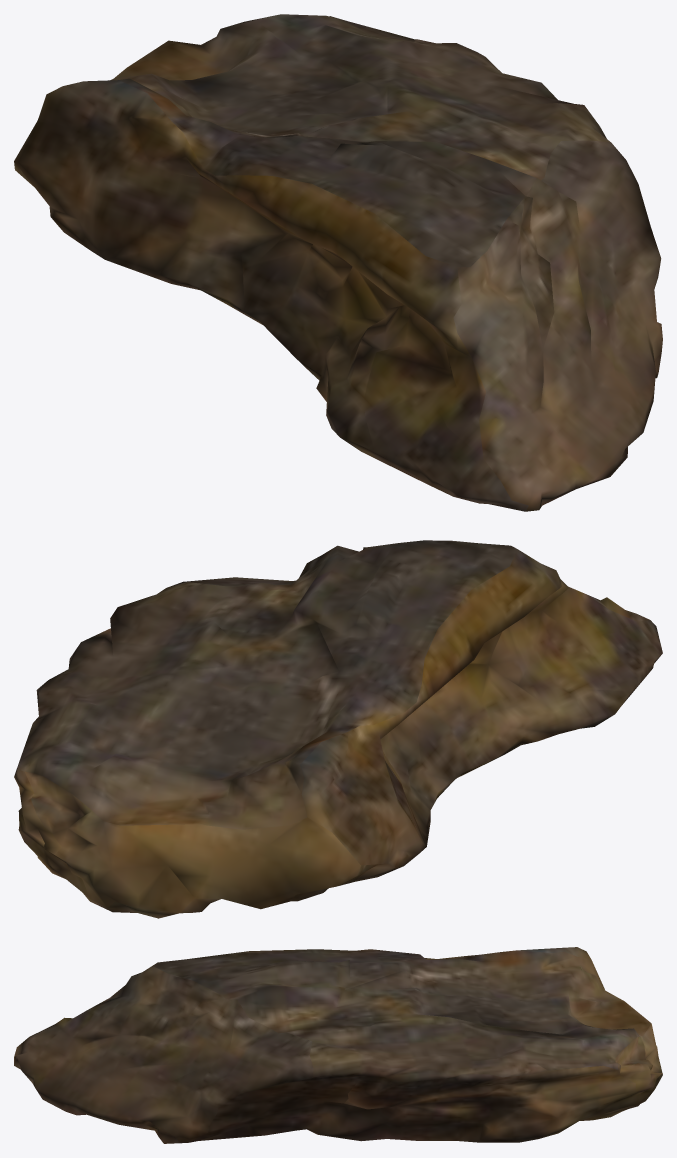
The model's file is rock_d.glb.
3 views of the same model, one above another, from view 1: azimuth 30°, elevation 25°; view 2: azimuth 150°, elevation 25°; view 3: azimuth 270°, elevation 25° (orthographic). The views are drawn at different scales.
Visible parts, largest first — view 1: rock_09_LOD0; view 2: rock_09_LOD0; view 3: rock_09_LOD0.
Part boxes in pixels (x1,y1,x2,y2): rock_09_LOD0: [14, 14, 662, 511]; rock_09_LOD0: [14, 540, 662, 918]; rock_09_LOD0: [14, 947, 662, 1143].
Size of the model in its own units: 0.0738 by 0.0326 by 0.1446.
1 material, 1 textured.
